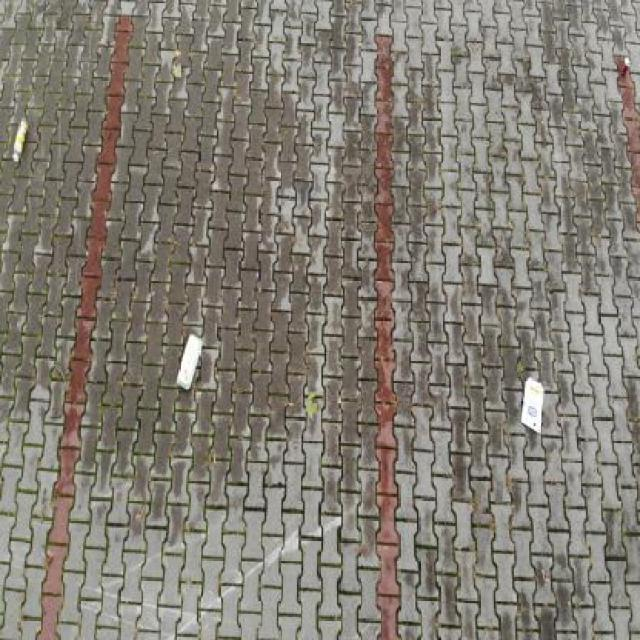Garbage: (518, 376, 544, 434), (175, 333, 202, 388), (13, 116, 29, 162), (618, 57, 630, 78)
